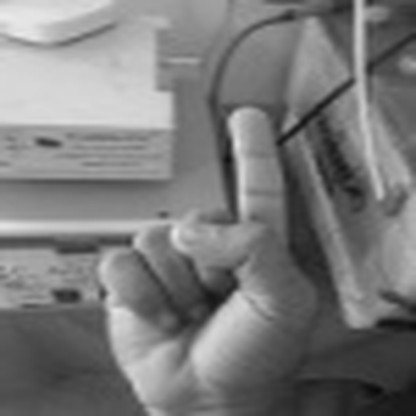d: (97, 101, 301, 415)
